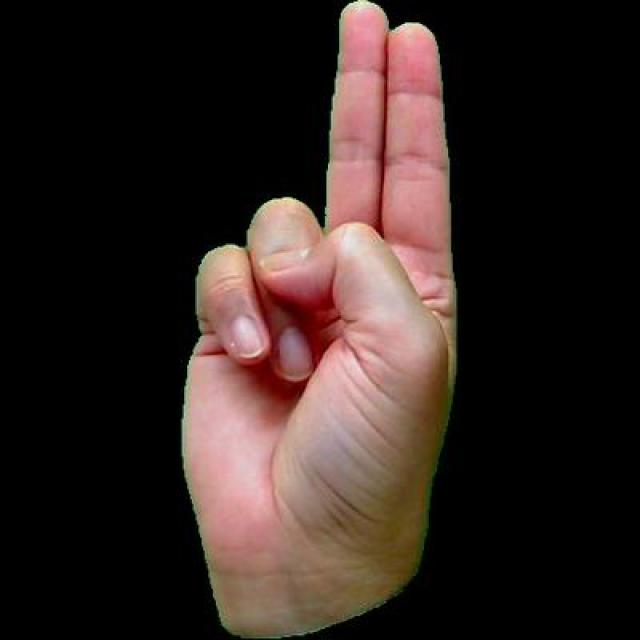u: (174, 0, 460, 637)
